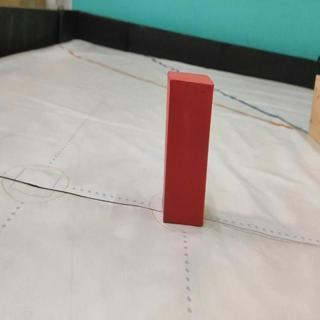redbox: (161, 69, 214, 227)
